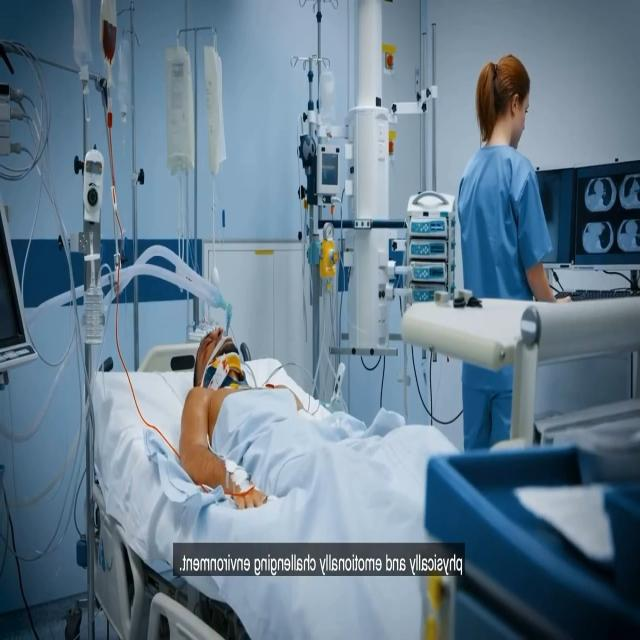Movement-NO: (164, 274, 299, 480)
